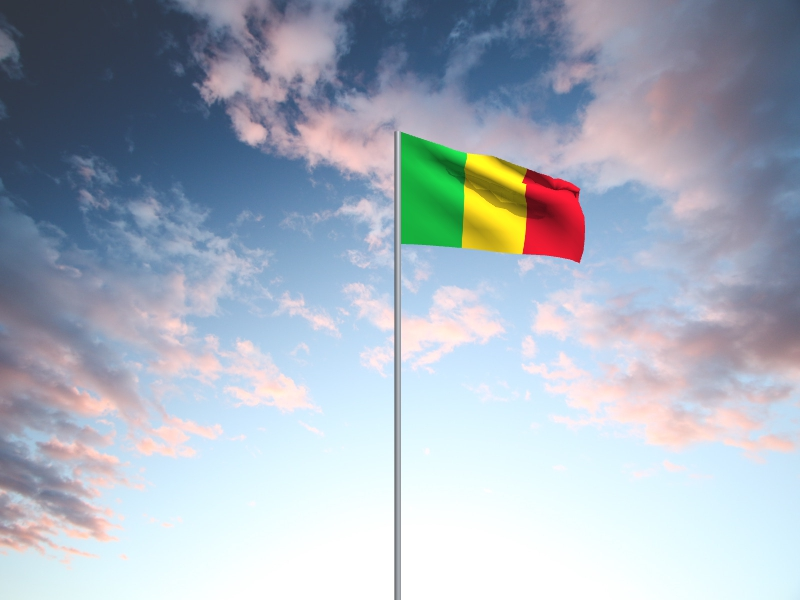ml: (402, 132, 587, 265)
